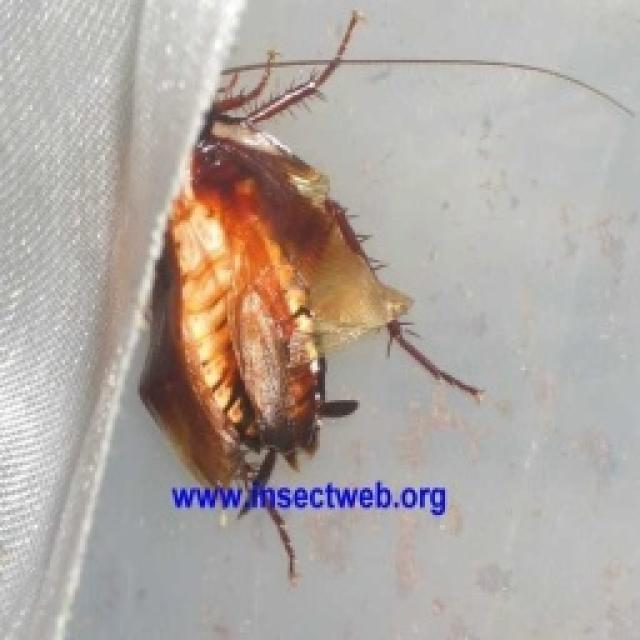cockroach: (106, 47, 395, 563)
